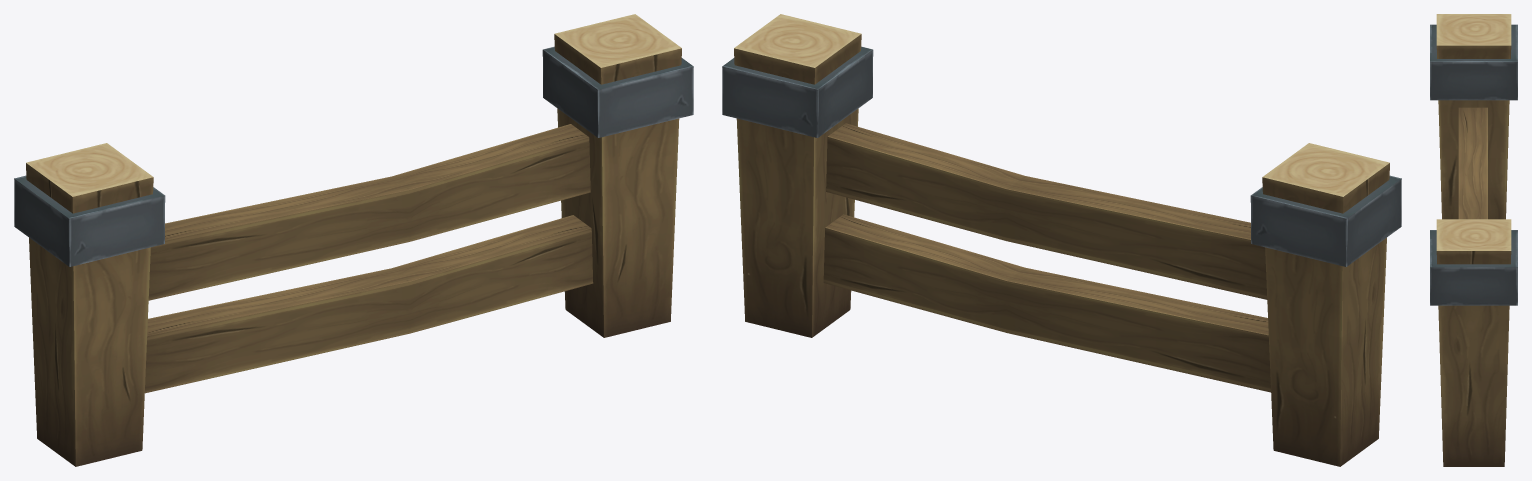
Rendered from wooden_fence_37.fbx.
The picture shows the model from 3 angles, left to right: view 1: azimuth 30°, elevation 25°; view 2: azimuth 150°, elevation 25°; view 3: azimuth 270°, elevation 25°; orthographic projection. The views are drawn at different scales.
Visible parts, largest first — view 1: wooden_fence_37:Mesh; view 2: wooden_fence_37:Mesh; view 3: wooden_fence_37:Mesh.
Part boxes in pixels (x1,y1,x2,y2): wooden_fence_37:Mesh: [14, 14, 693, 466]; wooden_fence_37:Mesh: [722, 14, 1401, 466]; wooden_fence_37:Mesh: [1430, 14, 1517, 466].
Size of the model in its own units: 6.41 by 2.7 by 0.9815.
